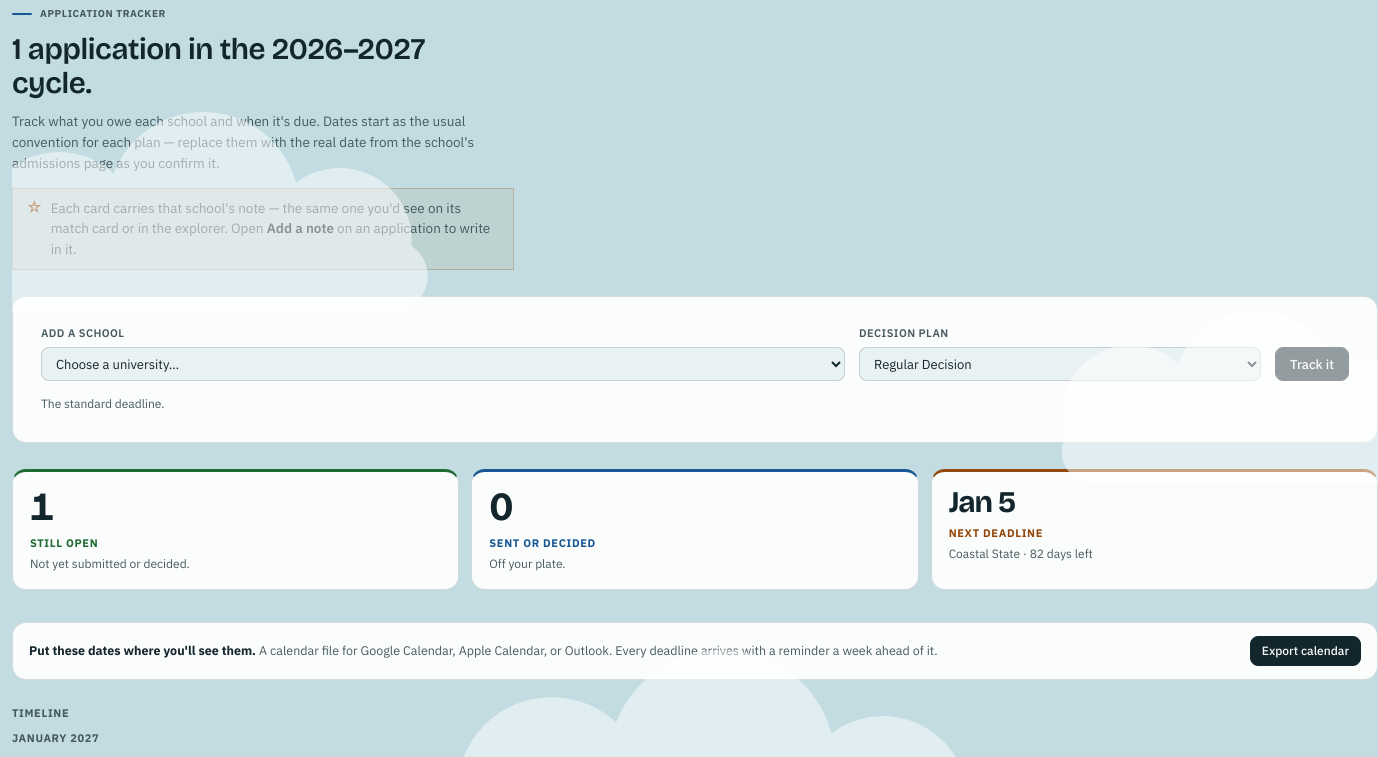
Test case: adding a school › reports a failed add without wiping the list
Select "Northfield College — Ithaca, NY" in the dropdown labelled "Add a school". click: (443,364)
box: top-left (41, 347), bottom-right (845, 381)
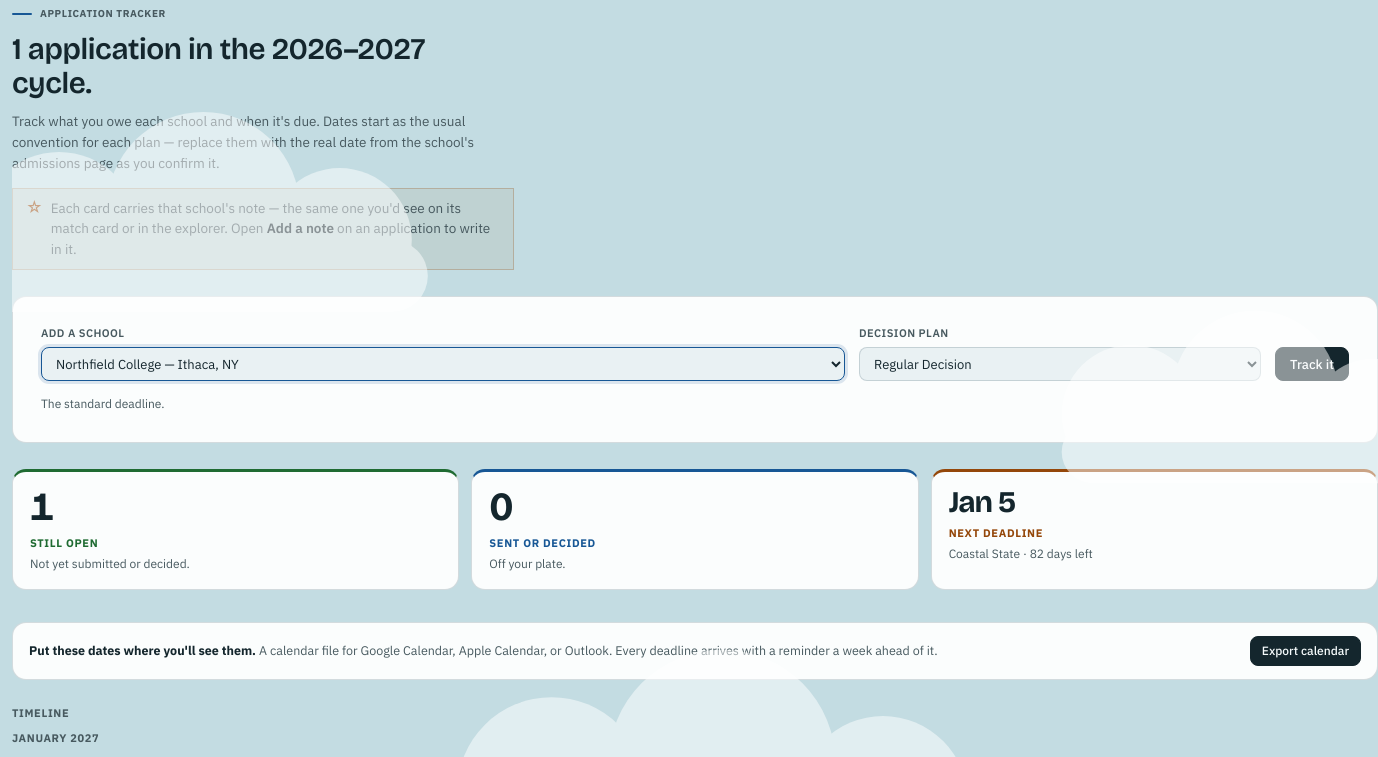
Click the button "Track it". click: (1312,364)
box: top-left (1275, 347), bottom-right (1349, 381)
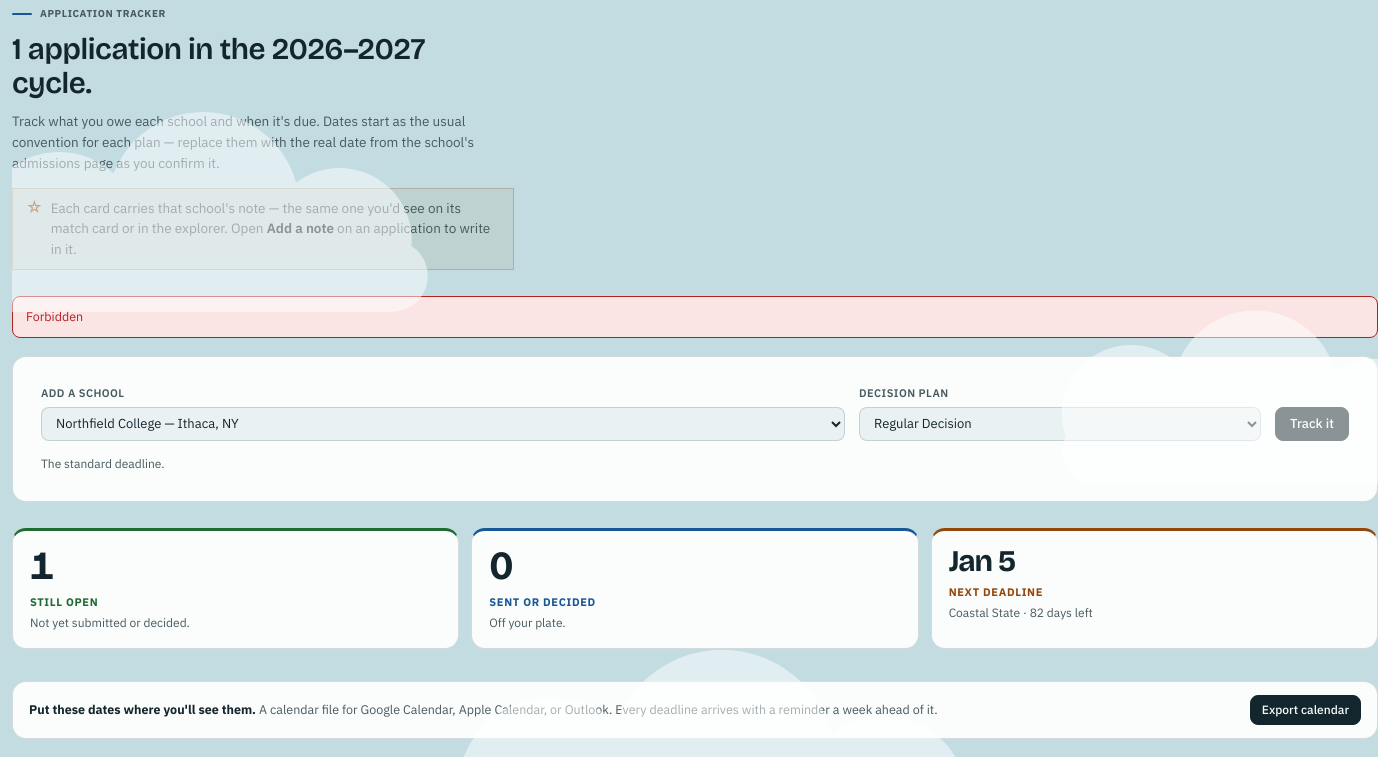
Expected: the text "Forbidden" is shown, top-left (12, 296), bottom-right (1377, 338)
